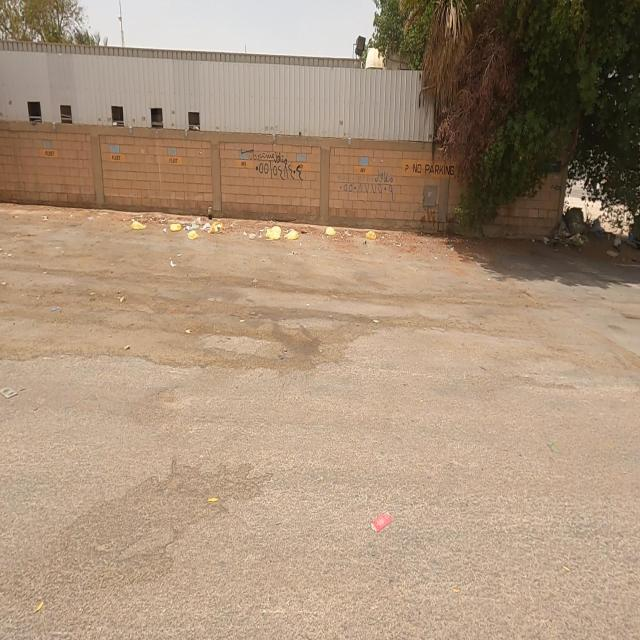Graffiti: (240, 152, 306, 183), (340, 169, 397, 204)
